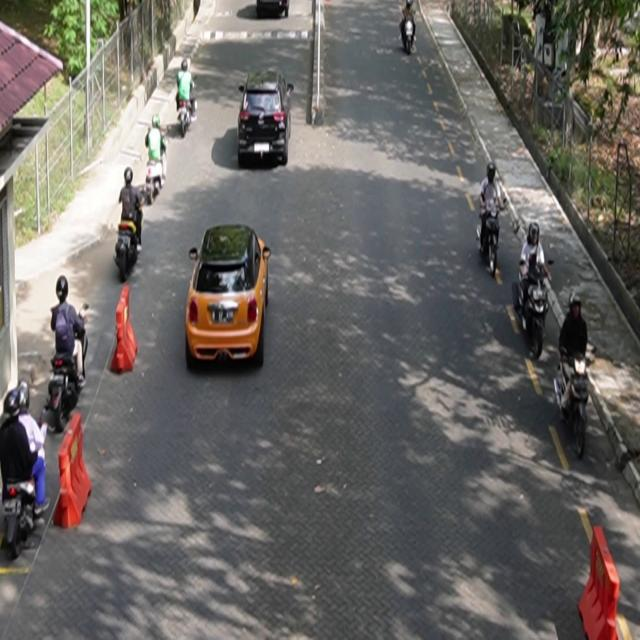car: (186, 224, 272, 367), (238, 69, 295, 168)
